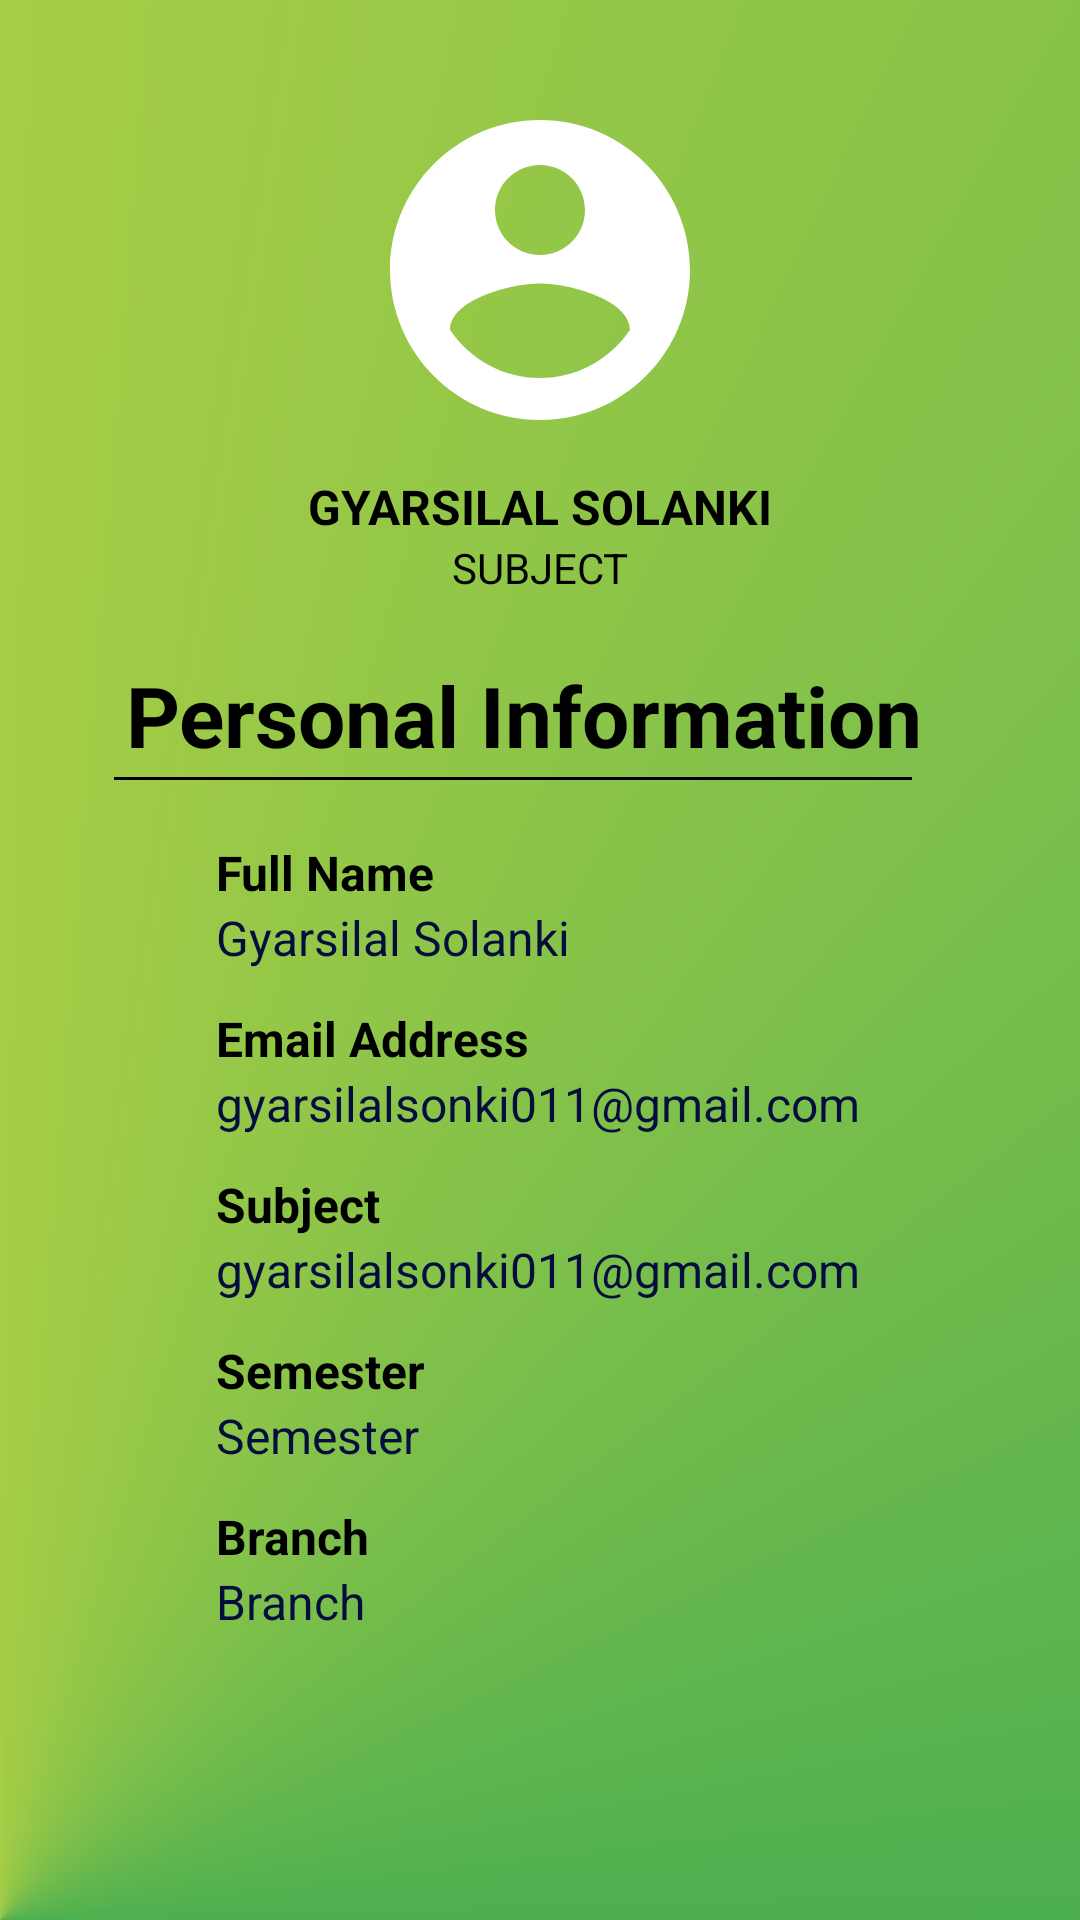

Screen size 1080x1920. Icon name, then its center in pixels as (x,y):
Profile: (540,270)
